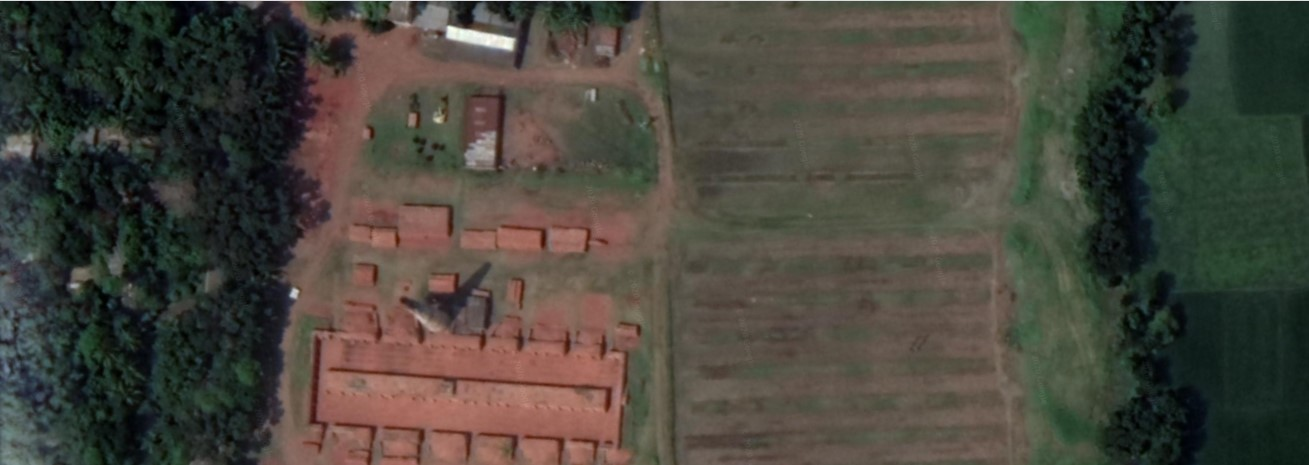kiln: (299, 268, 647, 459)
